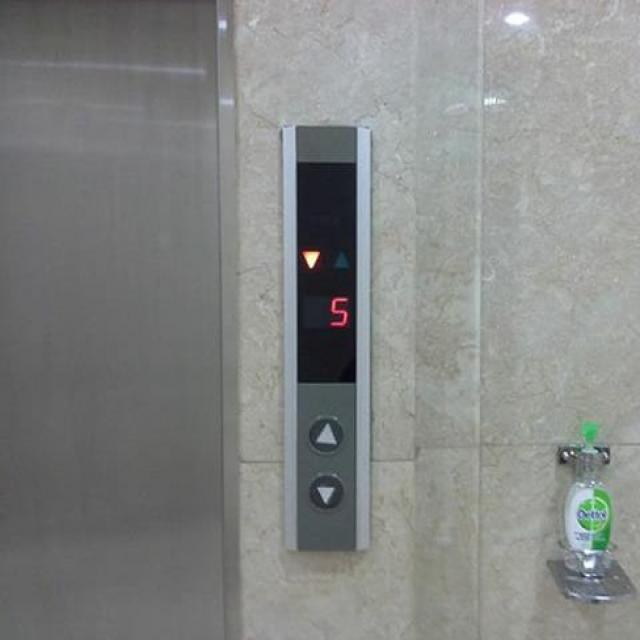down: (304, 471, 344, 509)
led: (294, 160, 354, 384)
up: (304, 413, 344, 455)
